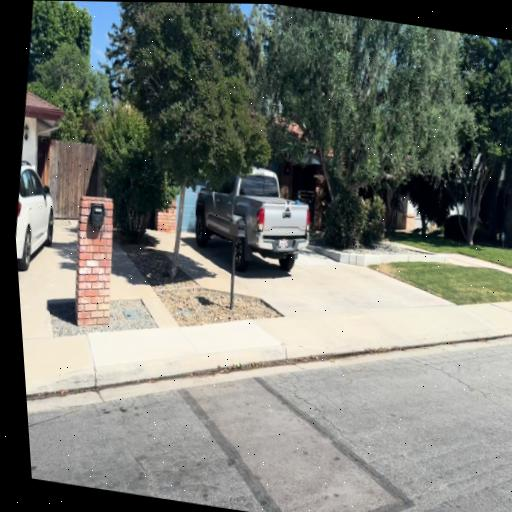target1: (285, 200, 292, 212)
